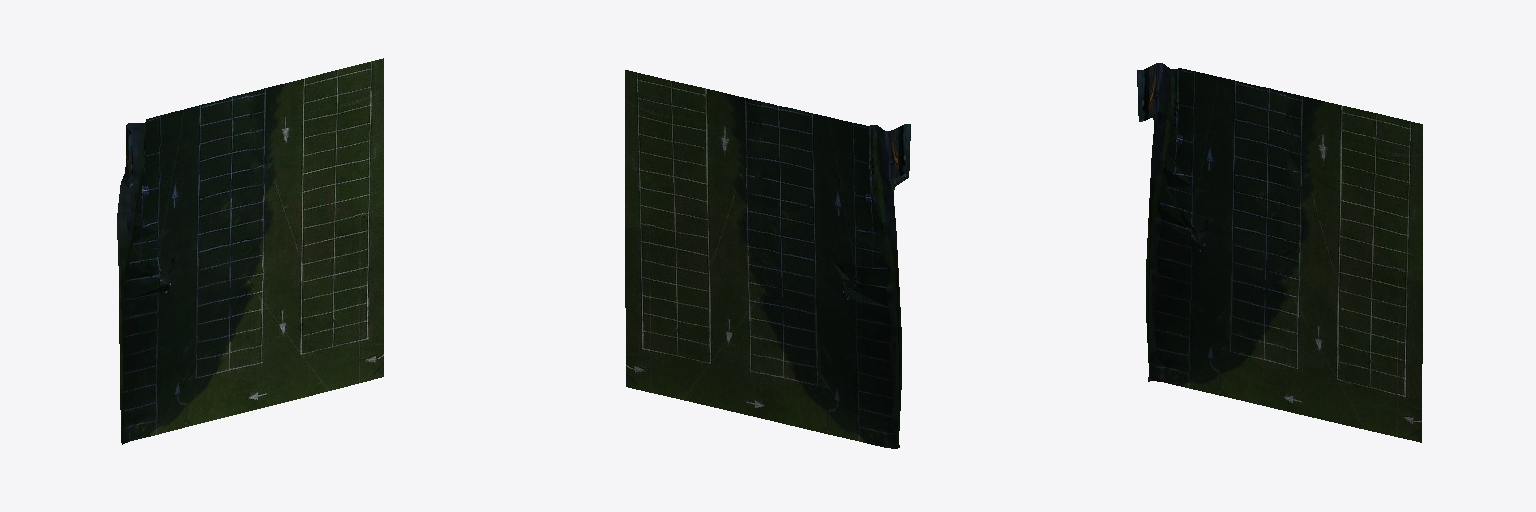
The picture shows the model from 3 angles: view 1: azimuth 30°, elevation 25°; view 2: azimuth 150°, elevation 25°; view 3: azimuth 330°, elevation 25°; orthographic projection.
Parts seen in each view (by area): view 1: obj_0; view 2: obj_0; view 3: obj_0.
Part boxes in pixels (bbox=[...]): obj_0: bbox=[117, 58, 383, 444]; obj_0: bbox=[625, 70, 910, 448]; obj_0: bbox=[1137, 63, 1422, 442].
Bounding box in the file's own units: 40.15 × 45.06 × 3.98.
1 materials, 1 textured.